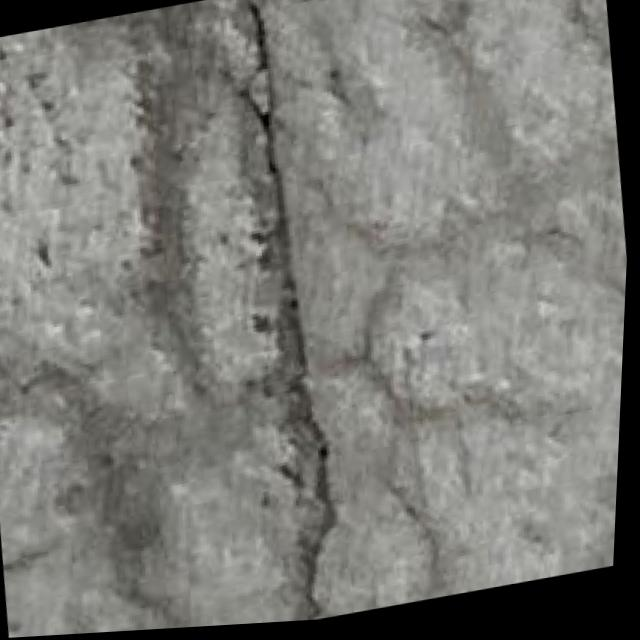Crack: (168, 0, 435, 631)
